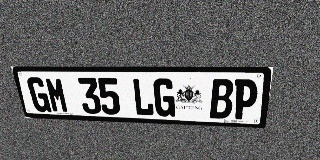3: (77, 78, 102, 114)
5: (97, 78, 121, 115)
B: (210, 79, 234, 119)
G: (26, 77, 52, 112), (153, 78, 175, 117)
L: (132, 78, 154, 116)
M: (44, 77, 70, 113)
P: (232, 79, 259, 120)
